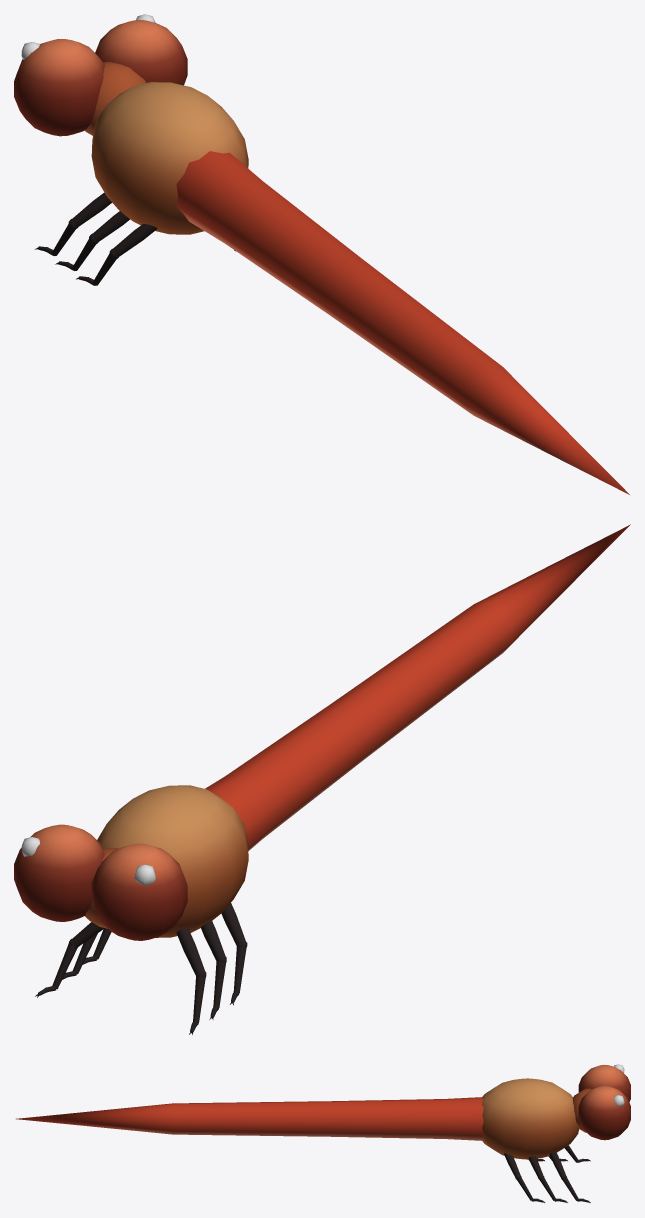
Rendered from Dragonfly_Body.fbx.
3 views of the same model, one above another, from view 1: azimuth 30°, elevation 25°; view 2: azimuth 150°, elevation 25°; view 3: azimuth 270°, elevation 25° (orthographic). The views are drawn at different scales.
Visible parts, largest first — view 1: Dragonfly_Body; view 2: Dragonfly_Body; view 3: Dragonfly_Body.
Part boxes in pixels (left/top/right/bottom): Dragonfly_Body: left=14, top=14, right=629, bottom=494; Dragonfly_Body: left=14, top=524, right=630, bottom=1034; Dragonfly_Body: left=16, top=1064, right=630, bottom=1202.
Size of the model in its own units: 0.2282 by 0.2537 by 1.36.
